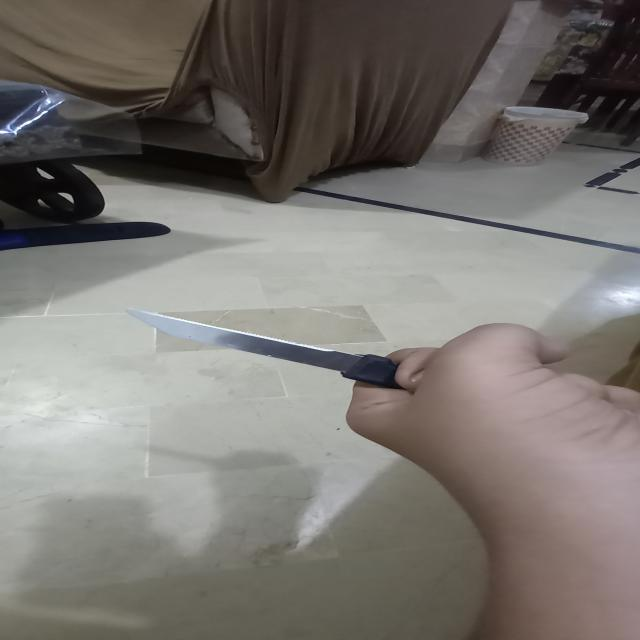senjata_tajam: (122, 301, 410, 393)
